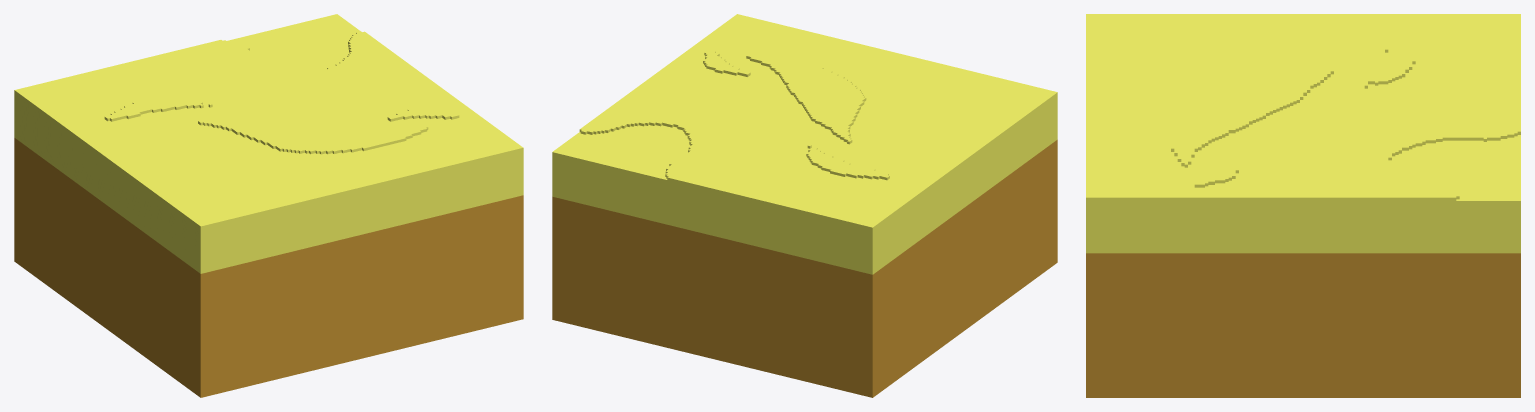
3 views of the same model, side by side, from view 1: azimuth 30°, elevation 25°; view 2: azimuth 150°, elevation 25°; view 3: azimuth 270°, elevation 25° (orthographic). The views are drawn at different scales.
Parts seen in each view (by area): view 1: 2M; view 2: 2M; view 3: 2M.
Boxes of the visible parts, left/top/right/bottom form: 2M: left=14, top=14, right=523, bottom=397; 2M: left=552, top=14, right=1057, bottom=397; 2M: left=1086, top=14, right=1520, bottom=397.
Bounding box in the file's own units: 12.8 × 6.6 × 12.8.
Materials: 1 (1 with a texture image).
